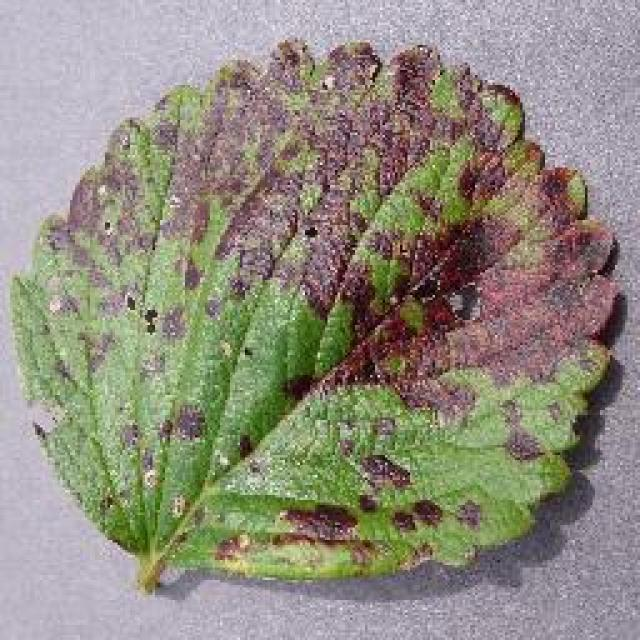Strawberry___Leaf_scorch: (0, 8, 630, 622)
